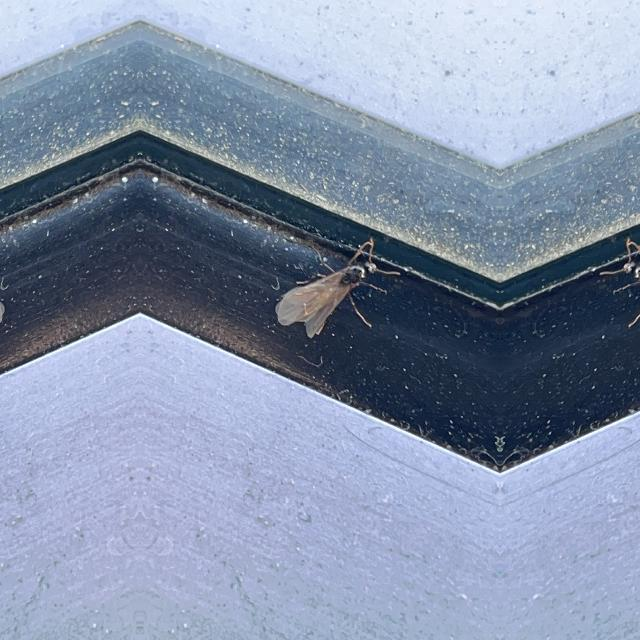Camponotus: (274, 232, 386, 330), (612, 232, 640, 330)
